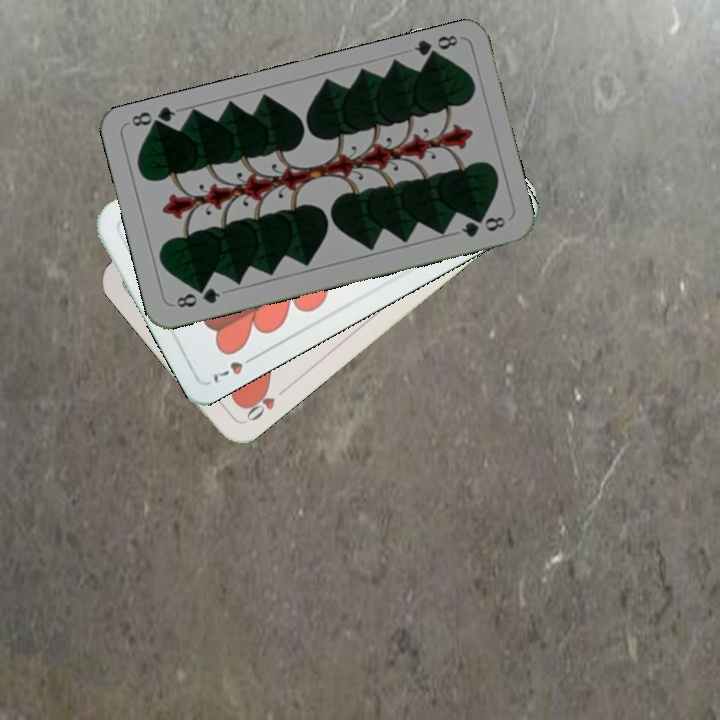G8: (410, 30, 461, 64), (172, 283, 223, 311)
H7: (209, 350, 260, 386)
HO: (239, 383, 290, 424)
